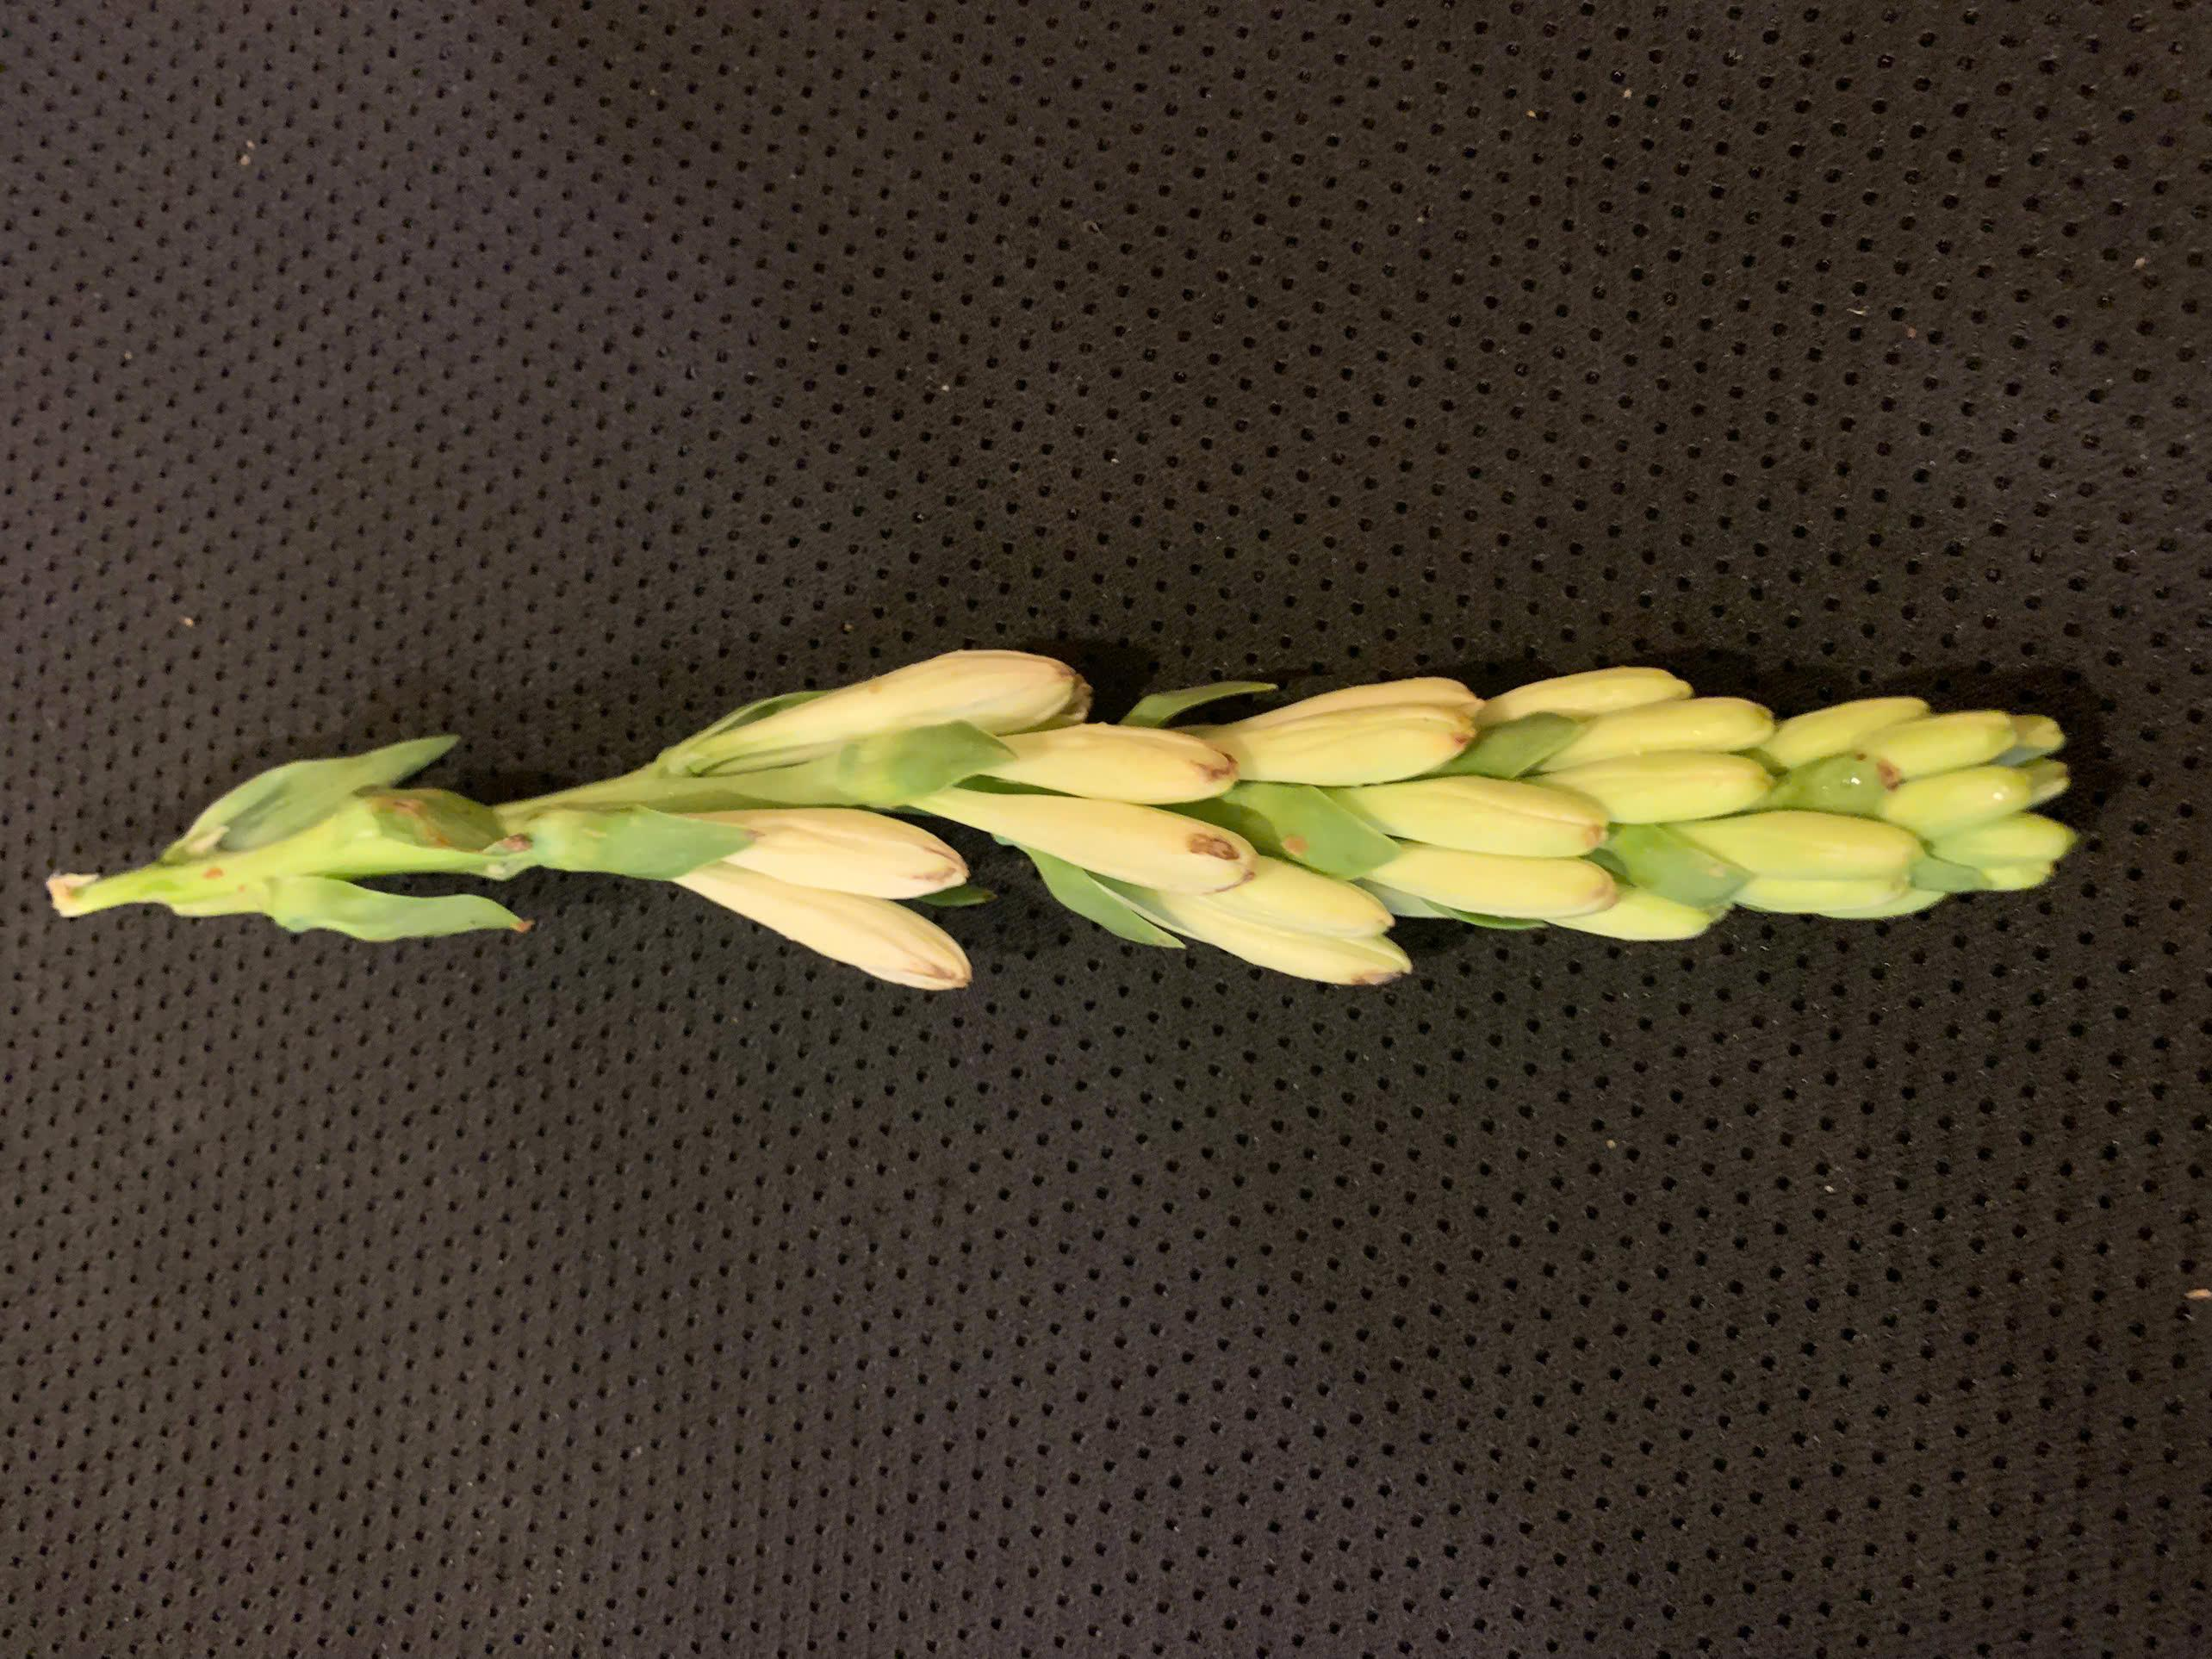Huu co: (49, 647, 2081, 997)
